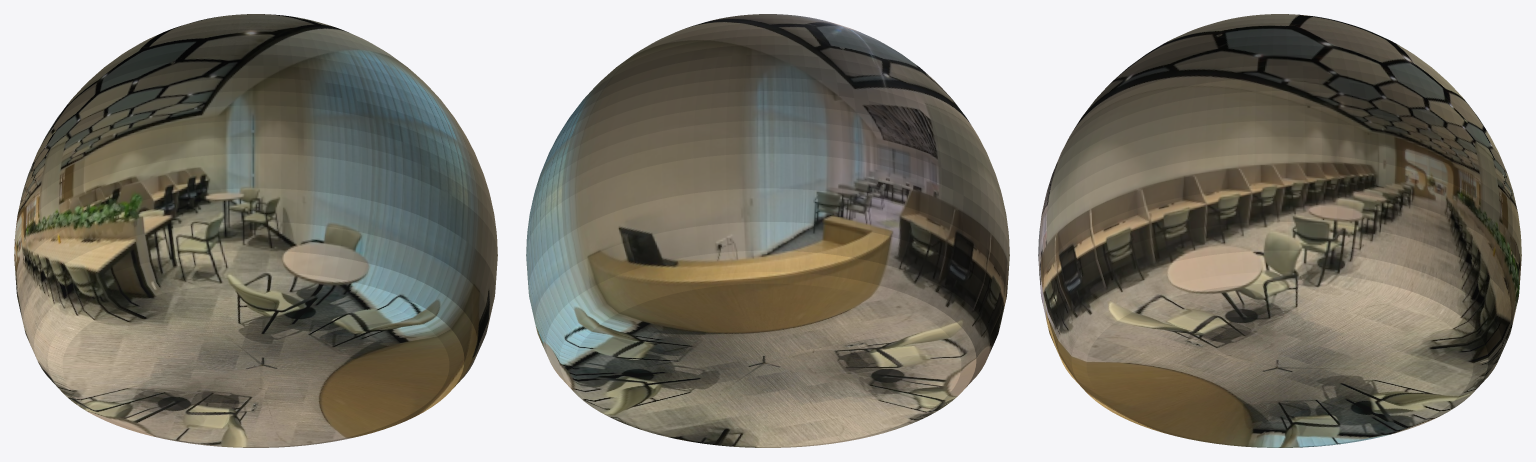
The model's file is library-corridor-035.glb.
3 views of the same model, side by side, from view 1: azimuth 30°, elevation 25°; view 2: azimuth 150°, elevation 25°; view 3: azimuth 270°, elevation 25° (orthographic).
Bounding box in the file's own units: 2 × 1.5 × 2.
Materials: 1 (1 with a texture image).
